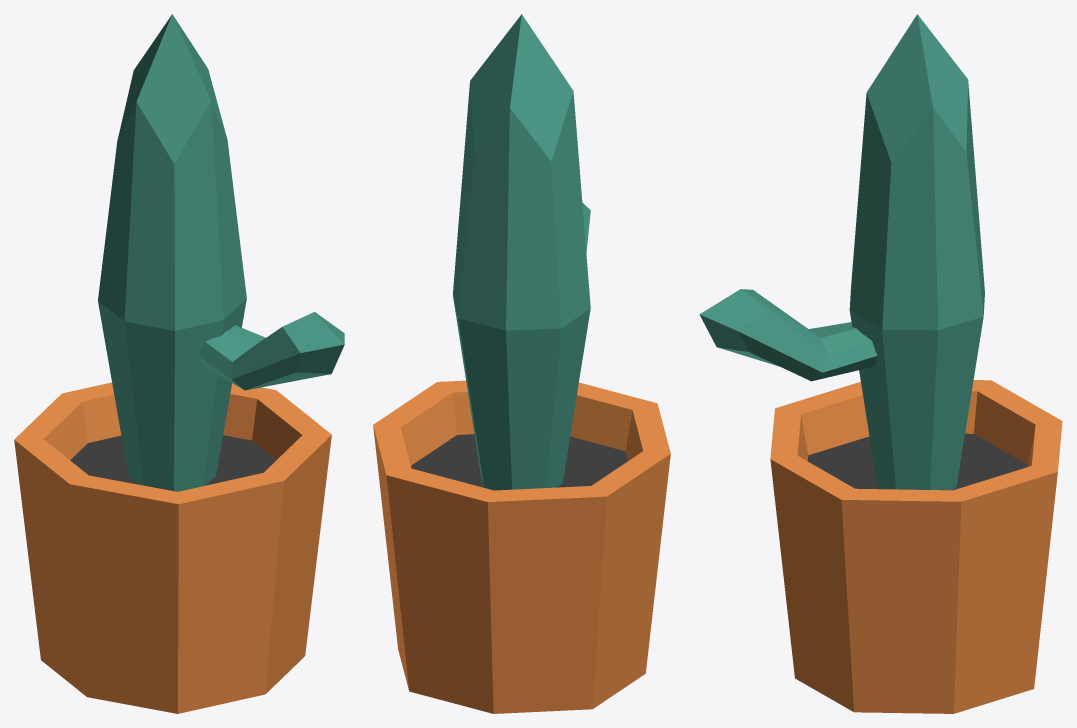
Rendered from Flower_65.fbx.
3 renders of one model, left to right at view 1: azimuth 30°, elevation 25°; view 2: azimuth 150°, elevation 25°; view 3: azimuth 270°, elevation 25°, orthographic.
Visible parts, largest first — view 1: Flower_65; view 2: Flower_65; view 3: Flower_65.
Part boxes in pixels (<box>): Flower_65: <box>14,14,344,713</box>; Flower_65: <box>373,14,670,713</box>; Flower_65: <box>699,14,1062,713</box>.
Size of the model in its own units: 23.63 by 29.36 by 57.86.
